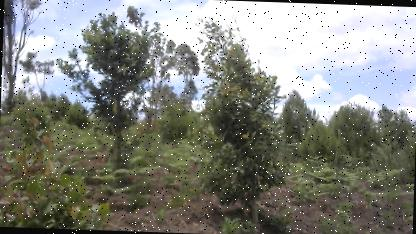tree: (188, 11, 298, 232), (52, 0, 170, 183)
